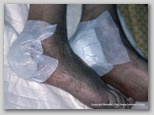ND: (6, 8, 131, 84)
